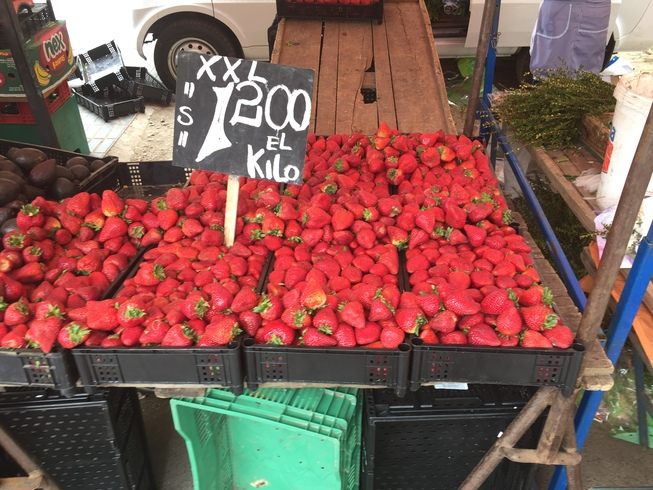precio: (165, 47, 318, 197)
